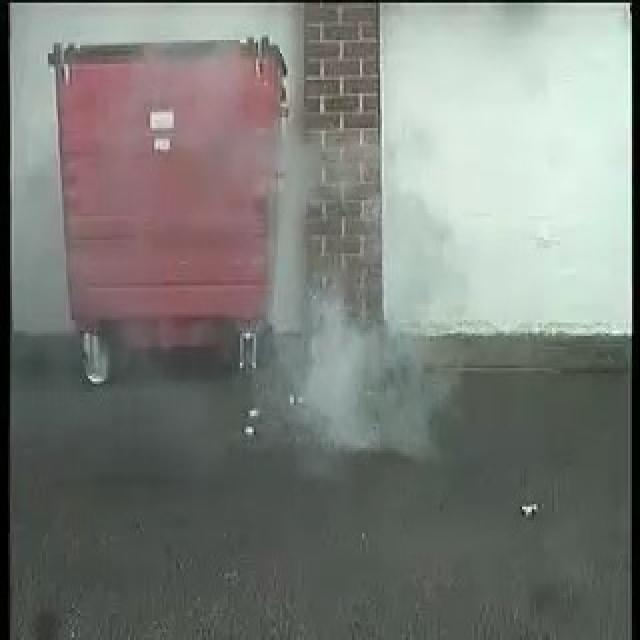Smoke: (273, 206, 431, 452)
